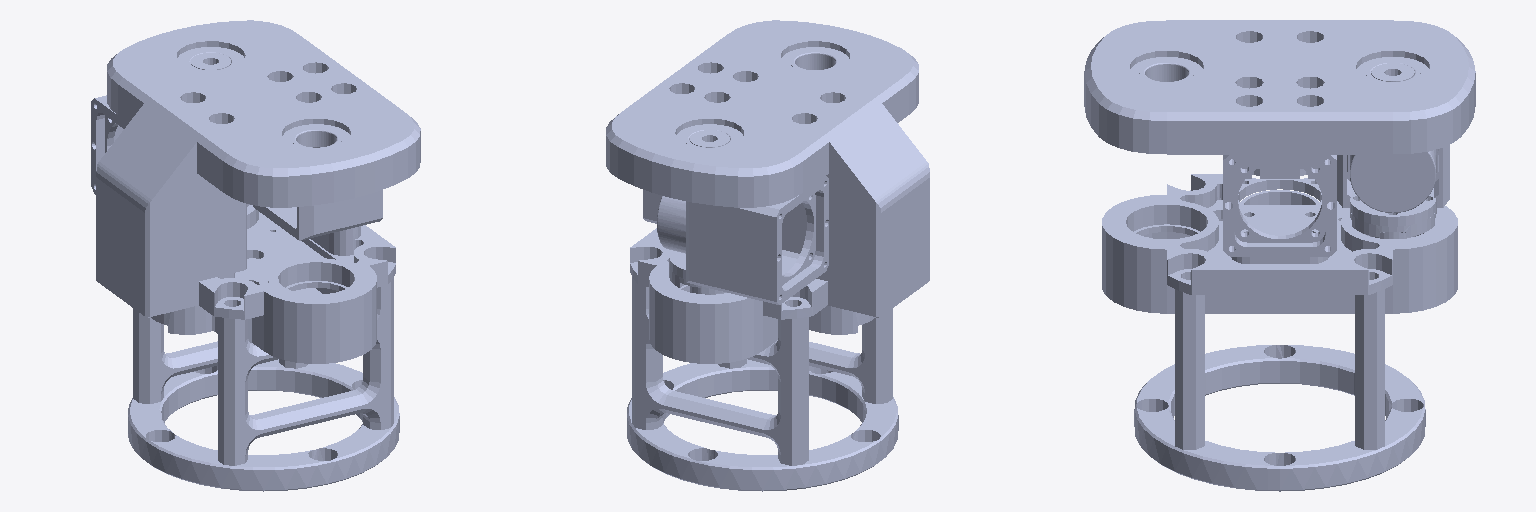
URDF robot description (gripper_base):
<?xml version="1.0" encoding="utf-8"?>
<!-- This URDF was automatically created by SolidWorks to URDF Exporter! Originally created by [author] ([email redacted]) 
     Commit Version: 1.5.1-0-g916b5db  Build Version: 1.5.7152.31018
     For more information, please see http://wiki.ros.org/sw_urdf_exporter -->
<robot
  name="gripper_base">
  <link
    name="gripper_base_link">
    <inertial>
      <origin
        xyz="-0.0019571 1.9748E-05 0.052522"
        rpy="0 0 0" />
      <mass
        value="0.088404" />
      <inertia
        ixx="3.3349E-05"
        ixy="1.4704E-08"
        ixz="-2.4848E-07"
        iyy="2.6097E-05"
        iyz="3.2395E-09"
        izz="5.3482E-05" />
    </inertial>
    <visual>
      <origin
        xyz="0 0 0"
        rpy="0 0 0" />
      <geometry>
        <mesh
          filename="package://gripper_base/meshes/gripper_base_link.STL" />
      </geometry>
      <material
        name="">
        <color
          rgba="0.79216 0.81961 0.93333 1" />
      </material>
    </visual>
    <collision>
      <origin
        xyz="0 0 0"
        rpy="0 0 0" />
      <geometry>
        <mesh
          filename="package://gripper_base/meshes/gripper_base_link.STL" />
      </geometry>
    </collision>
  </link>
  <link
    name="l_finger_link">
    <inertial>
      <origin
        xyz="-0.0053798 -5.6205E-16 0.012857"
        rpy="0 0 0" />
      <mass
        value="0.014765" />
      <inertia
        ixx="1.6221E-06"
        ixy="-1.2909E-22"
        ixz="-3.1553E-22"
        iyy="1.5417E-06"
        iyz="1.1779E-23"
        izz="1.4779E-06" />
    </inertial>
    <visual>
      <origin
        xyz="0 0 0"
        rpy="0 0 0" />
      <geometry>
        <mesh
          filename="package://gripper_base/meshes/l_finger_link.STL" />
      </geometry>
      <material
        name="">
        <color
          rgba="0.79216 0.81961 0.93333 1" />
      </material>
    </visual>
    <collision>
      <origin
        xyz="0 0 0"
        rpy="0 0 0" />
      <geometry>
        <mesh
          filename="package://gripper_base/meshes/l_finger_link.STL" />
      </geometry>
    </collision>
  </link>
  <joint
    name="l_finger_joint"
    type="continuous">
    <origin
      xyz="0 0.026 0.0565"
      rpy="0 0 0" />
    <parent
      link="gripper_base_link" />
    <child
      link="l_finger_link" />
    <axis
      xyz="0 0 -1" />
  </joint>
  <link
    name="r_finger_link">
    <inertial>
      <origin
        xyz="-0.0053798 -8.1532E-16 0.012857"
        rpy="0 0 0" />
      <mass
        value="0.014765" />
      <inertia
        ixx="1.6221E-06"
        ixy="1.8121E-21"
        ixz="-1.2879E-22"
        iyy="1.5417E-06"
        iyz="1.4405E-22"
        izz="1.4779E-06" />
    </inertial>
    <visual>
      <origin
        xyz="0 0 0"
        rpy="0 0 0" />
      <geometry>
        <mesh
          filename="package://gripper_base/meshes/r_finger_link.STL" />
      </geometry>
      <material
        name="">
        <color
          rgba="0.79216 0.81961 0.93333 1" />
      </material>
    </visual>
    <collision>
      <origin
        xyz="0 0 0"
        rpy="0 0 0" />
      <geometry>
        <mesh
          filename="package://gripper_base/meshes/r_finger_link.STL" />
      </geometry>
    </collision>
  </link>
  <joint
    name="r_finger_joint"
    type="continuous">
    <origin
      xyz="0 -0.026 0.0565"
      rpy="0 0 0" />
    <parent
      link="gripper_base_link" />
    <child
      link="r_finger_link" />
    <axis
      xyz="0 0 -1" />
  </joint>
</robot>

--- What the picture shows (computed from the rendered views, not written in the file) ---
The picture shows the robot from 3 angles, left to right: view 1: azimuth 30°, elevation 25°; view 2: azimuth 150°, elevation 25°; view 3: azimuth 270°, elevation 25°; orthographic projection.
Robot: gripper_base — 3 links, 2 joints (2 continuous); root link gripper_base_link; default pose: every joint at zero.
Links seen in each view (by area): view 1: gripper_base_link, l_finger_link; view 2: gripper_base_link, l_finger_link; view 3: gripper_base_link, l_finger_link.
Link boxes in pixels (<box>): gripper_base_link: <box>96,20,420,491</box>; l_finger_link: <box>91,53,249,206</box>; gripper_base_link: <box>606,20,929,491</box>; l_finger_link: <box>657,130,828,304</box>; gripper_base_link: <box>1084,20,1475,491</box>; l_finger_link: <box>1337,63,1449,238</box>.
Bounding box of the posed robot: 0.0742 × 0.09 × 0.0925 m (x, y, z).
2 mesh visuals loaded from 3 distinct referenced files (2 binary STL); not drawn: 1 (reference not matched to a file when rendering).